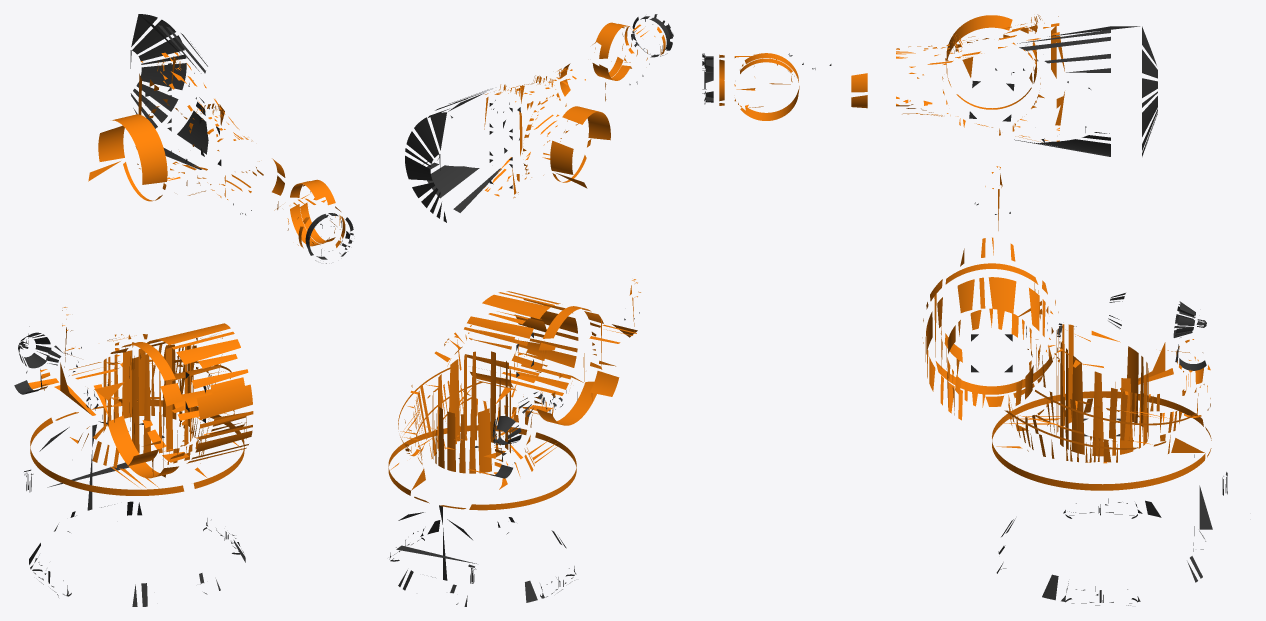
3 renders of one model, left to right at view 1: azimuth 30°, elevation 25°; view 2: azimuth 150°, elevation 25°; view 3: azimuth 270°, elevation 25°, orthographic. The views are drawn at different scales.
Parts seen in each view (by area): view 1: kr360_1; view 2: kr360_1; view 3: kr360_1.
Part boxes in pixels (box(x1,y1,x2,y2)): kr360_1: box(14, 14, 353, 606); kr360_1: box(388, 14, 673, 606); kr360_1: box(702, 14, 1227, 605).
Size of the model in its own units: 1183 by 2497 by 2724.
